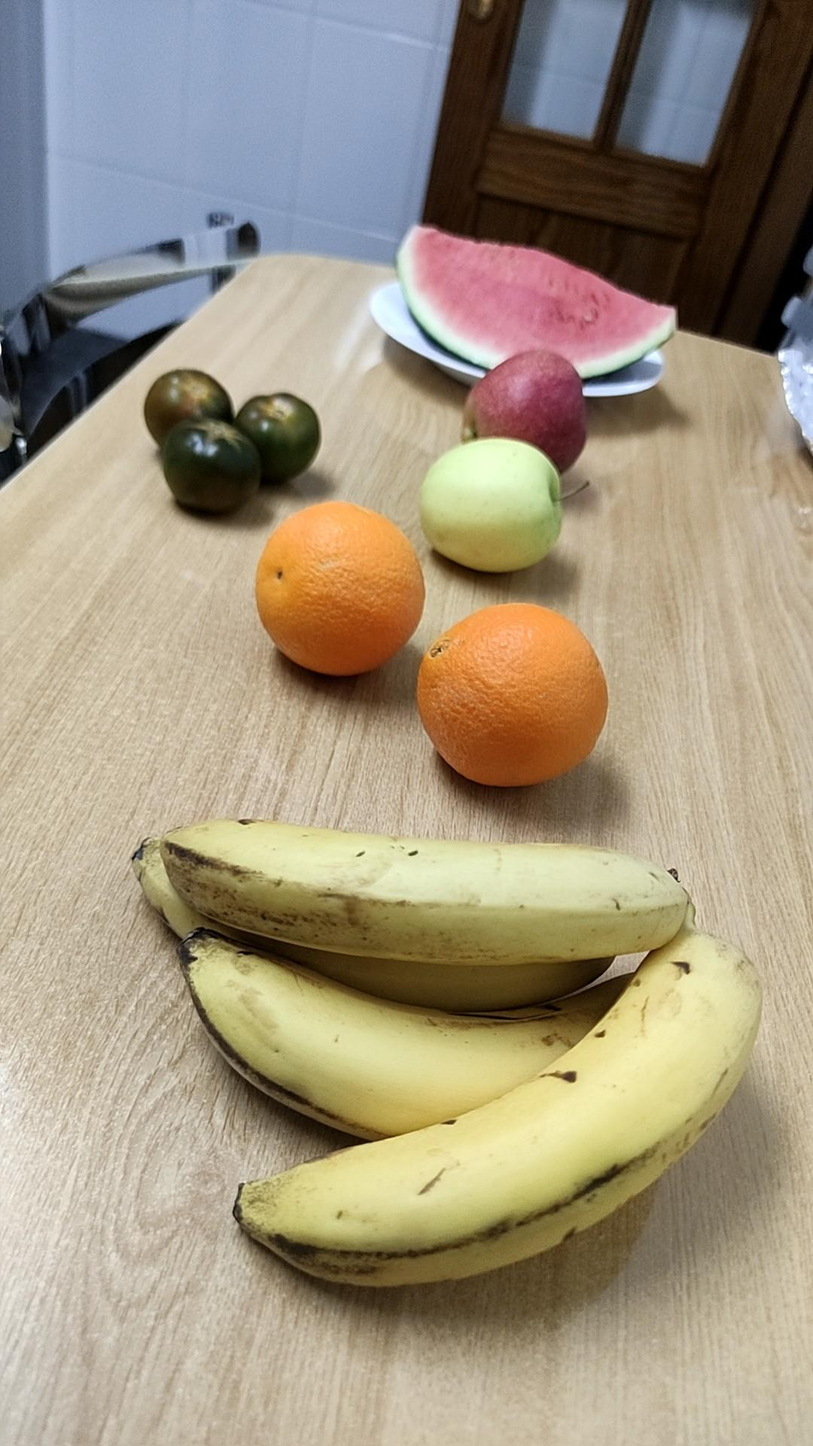fruit: (133, 819, 761, 1286), (396, 225, 676, 378), (417, 603, 607, 786), (256, 502, 425, 676), (144, 368, 320, 514), (420, 439, 560, 572), (463, 348, 586, 472)
